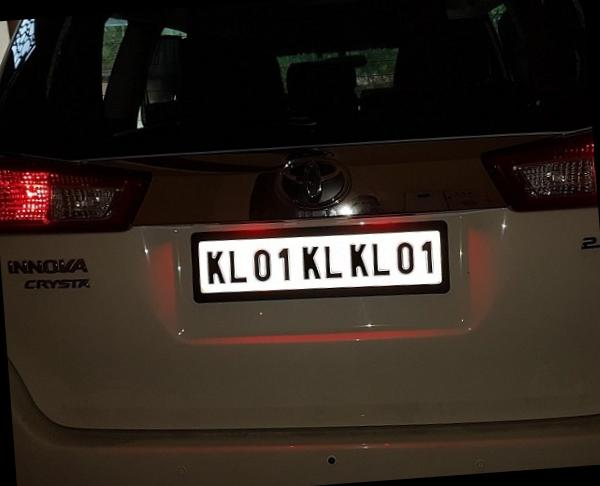plate: (181, 207, 462, 328)
